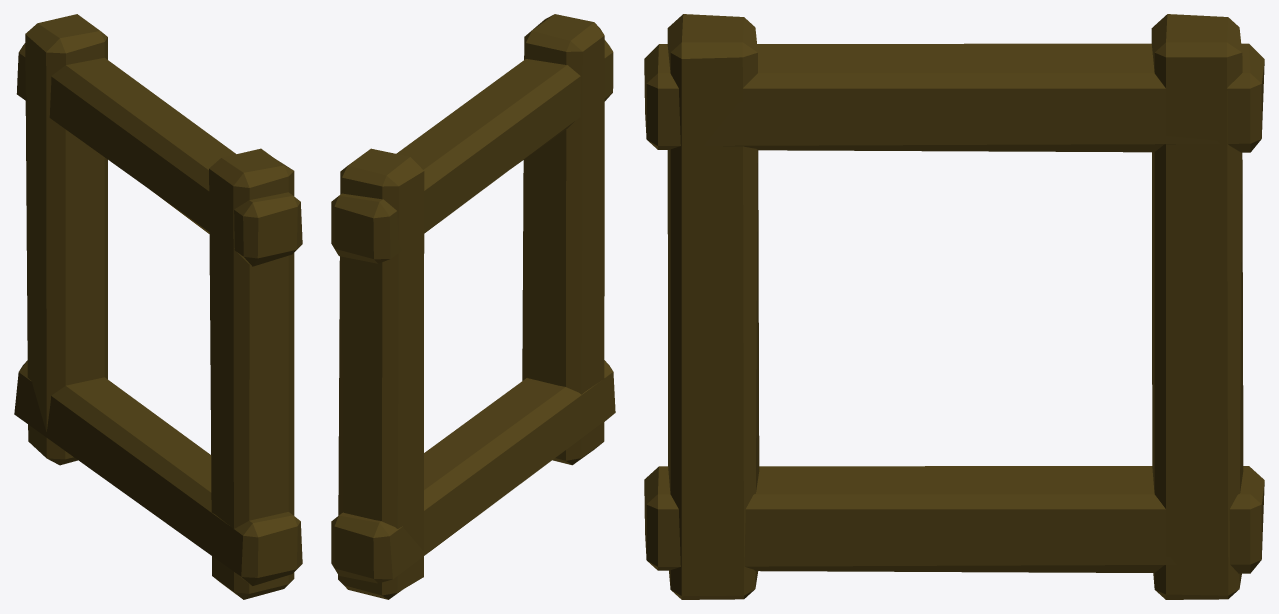
The model's file is 3D_BUILD_WINDOW1.FBX.
The picture shows the model from 3 angles, left to right: view 1: azimuth 30°, elevation 25°; view 2: azimuth 150°, elevation 25°; view 3: azimuth 270°, elevation 25°; orthographic projection. The views are drawn at different scales.
Visible parts, largest first — view 1: Box005; view 2: Box005; view 3: Box005.
Boxes of the visible parts, x1,y1,x2,y2 form: Box005: (14,14,302,599); Box005: (331,14,615,599); Box005: (644,14,1264,599).
Bounding box in the file's own units: 25.83 × 164 × 164.
